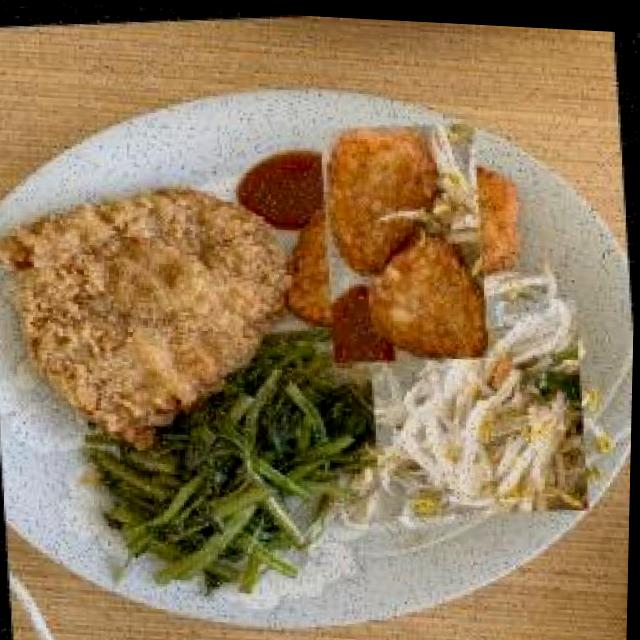fried_chicken: (0, 168, 305, 464)
mung_bean_sprouts: (363, 283, 595, 522)
triangle_hash_brown: (297, 127, 514, 349)
water_spinach: (85, 349, 389, 596)
